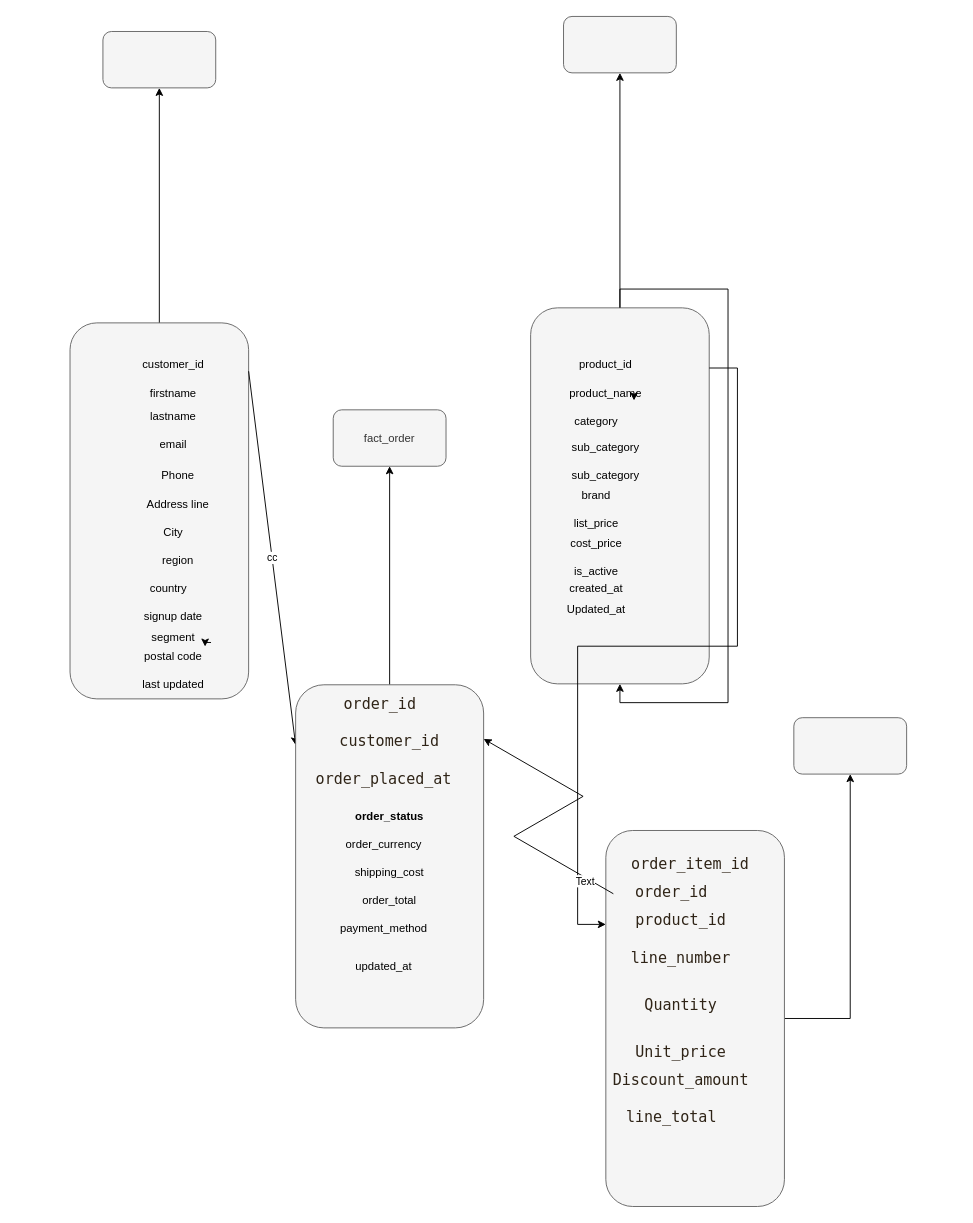
Some shapes in this 973 by 1223 pixel diagram are drawn without their labels. The centre of each missing label's shape, as x and y in pixels:
"dim_customer" belongs at (x=159, y=59).
"dim_product" belongs at (x=619, y=44).
